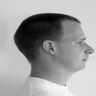ear: (39, 35, 61, 62)
